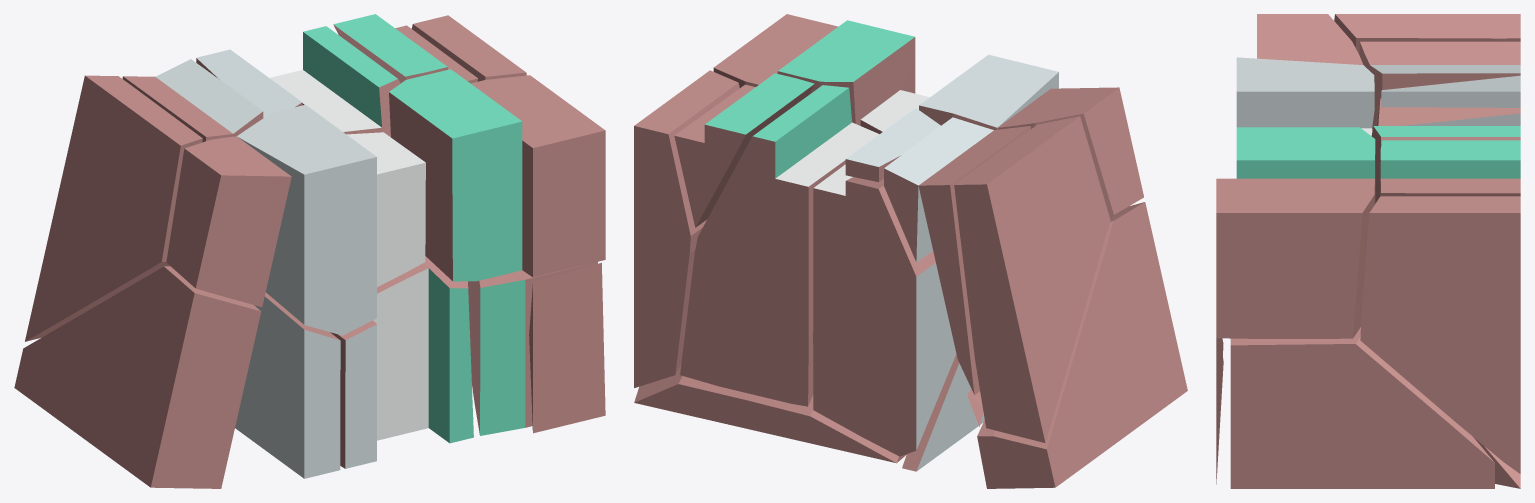
The model's file is books_broken.glb.
3 views of the same model, side by side, from view 1: azimuth 30°, elevation 25°; view 2: azimuth 150°, elevation 25°; view 3: azimuth 270°, elevation 25° (orthographic). The views are drawn at different scales.
Visible parts, largest first — view 1: books(Clone)_cell, books(Clone)_cell.012, books(Clone)_cell.014, books(Clone)_cell.007, books(Clone)_cell.009, books(Clone)_cell.008, books(Clone)_cell.001, books(Clone)_cell.006, books(Clone)_cell.011, books(Clone)_cell.004, books(Clone)_cell.010, books(Clone)_cell.002 (+1 smaller); view 2: books(Clone)_cell.007, books(Clone)_cell.011, books(Clone)_cell.003, books(Clone)_cell.014, books(Clone)_cell.002, books(Clone)_cell, books(Clone)_cell.004, books(Clone)_cell.012, books(Clone)_cell.010, books(Clone)_cell.009, books(Clone)_cell.008, books(Clone)_cell.005; view 3: books(Clone)_cell.002, books(Clone)_cell.006, books(Clone)_cell.012, books(Clone)_cell, books(Clone)_cell.010, books(Clone)_cell.004, books(Clone)_cell.007, books(Clone)_cell.005, books(Clone)_cell.003, books(Clone)_cell.011, books(Clone)_cell.001, books(Clone)_cell.009.
Boxes of the visible parts, x1=… form: books(Clone)_cell: x1=166, y1=104, x2=425, y2=335; books(Clone)_cell.012: x1=389, y1=69, x2=605, y2=281; books(Clone)_cell.014: x1=14, y1=266, x2=261, y2=488; books(Clone)_cell.007: x1=25, y1=75, x2=202, y2=341; books(Clone)_cell.009: x1=330, y1=256, x2=473, y2=468; books(Clone)_cell.008: x1=235, y1=292, x2=340, y2=478; books(Clone)_cell.001: x1=529, y1=262, x2=605, y2=433; books(Clone)_cell.006: x1=468, y1=262, x2=597, y2=435; books(Clone)_cell.011: x1=269, y1=26, x2=400, y2=137; books(Clone)_cell.004: x1=122, y1=59, x2=263, y2=142; books(Clone)_cell.010: x1=333, y1=14, x2=477, y2=83; books(Clone)_cell.002: x1=411, y1=15, x2=526, y2=81; books(Clone)_cell.007: x1=954, y1=116, x2=1110, y2=442; books(Clone)_cell.011: x1=680, y1=85, x2=879, y2=406; books(Clone)_cell.003: x1=813, y1=164, x2=956, y2=456; books(Clone)_cell.014: x1=977, y1=202, x2=1187, y2=488; books(Clone)_cell.002: x1=634, y1=70, x2=739, y2=387; books(Clone)_cell: x1=860, y1=54, x2=1143, y2=216; books(Clone)_cell.004: x1=884, y1=117, x2=1030, y2=394; books(Clone)_cell.012: x1=713, y1=14, x2=915, y2=125; books(Clone)_cell.010: x1=674, y1=73, x2=814, y2=227; books(Clone)_cell.009: x1=634, y1=364, x2=906, y2=463; books(Clone)_cell.008: x1=902, y1=354, x2=984, y2=471; books(Clone)_cell.005: x1=845, y1=108, x2=940, y2=182; books(Clone)_cell.002: x1=1360, y1=196, x2=1520, y2=473; books(Clone)_cell.006: x1=1230, y1=327, x2=1494, y2=488; books(Clone)_cell.012: x1=1216, y1=127, x2=1375, y2=338; books(Clone)_cell: x1=1236, y1=14, x2=1374, y2=135; books(Clone)_cell.010: x1=1380, y1=140, x2=1520, y2=196; books(Clone)_cell.004: x1=1359, y1=41, x2=1520, y2=130; books(Clone)_cell.007: x1=1334, y1=14, x2=1520, y2=54; books(Clone)_cell.005: x1=1381, y1=75, x2=1520, y2=107; books(Clone)_cell.003: x1=1375, y1=98, x2=1520, y2=125; books(Clone)_cell.011: x1=1371, y1=126, x2=1520, y2=203; books(Clone)_cell.001: x1=1216, y1=338, x2=1223, y2=484; books(Clone)_cell.009: x1=1473, y1=437, x2=1520, y2=488.
Size of the model in its own units: 0.1504 by 0.1039 by 0.0945.
